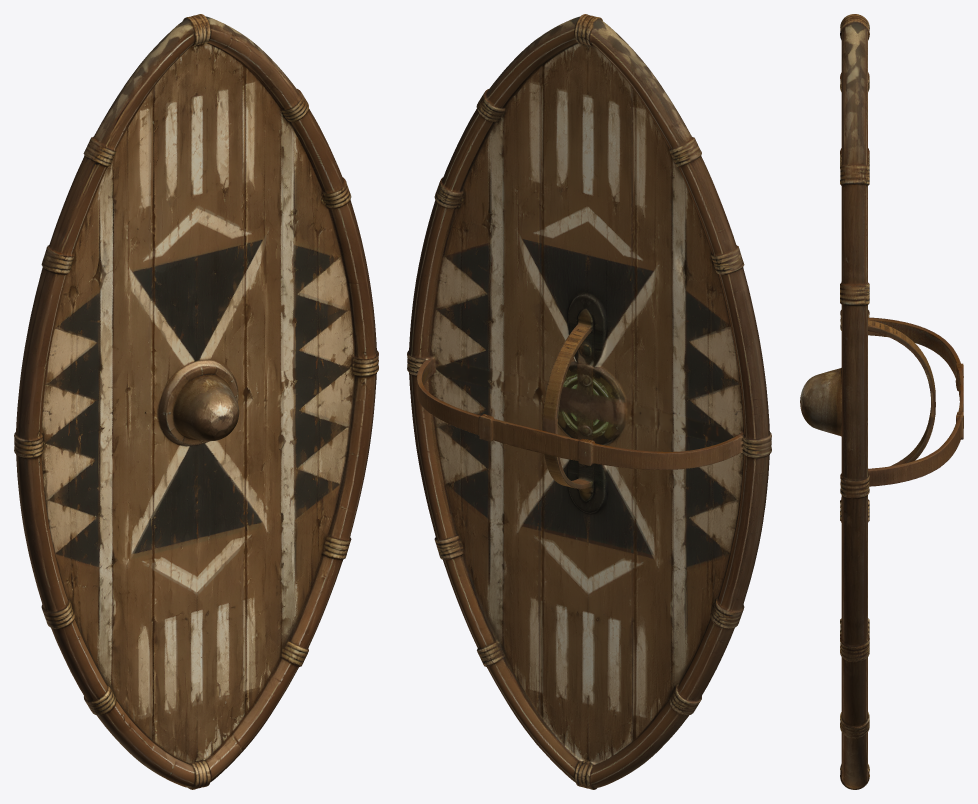
The model's file is Wood Shield.fbx.
The picture shows the model from 3 angles, left to right: view 1: azimuth 30°, elevation 25°; view 2: azimuth 150°, elevation 25°; view 3: azimuth 270°, elevation 25°; orthographic projection.
Visible parts, largest first — view 1: Mesh_0; view 2: Mesh_0; view 3: Mesh_0.
Boxes of the visible parts, left/top/right/bottom form: Mesh_0: left=14, top=14, right=378, bottom=789; Mesh_0: left=407, top=14, right=771, bottom=789; Mesh_0: left=800, top=14, right=963, bottom=789.
Bounding box in the file's own units: 93 × 190 × 36.64.
Materials: 1 (1 with a texture image).
